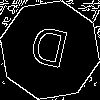D: (25, 25, 71, 78)
